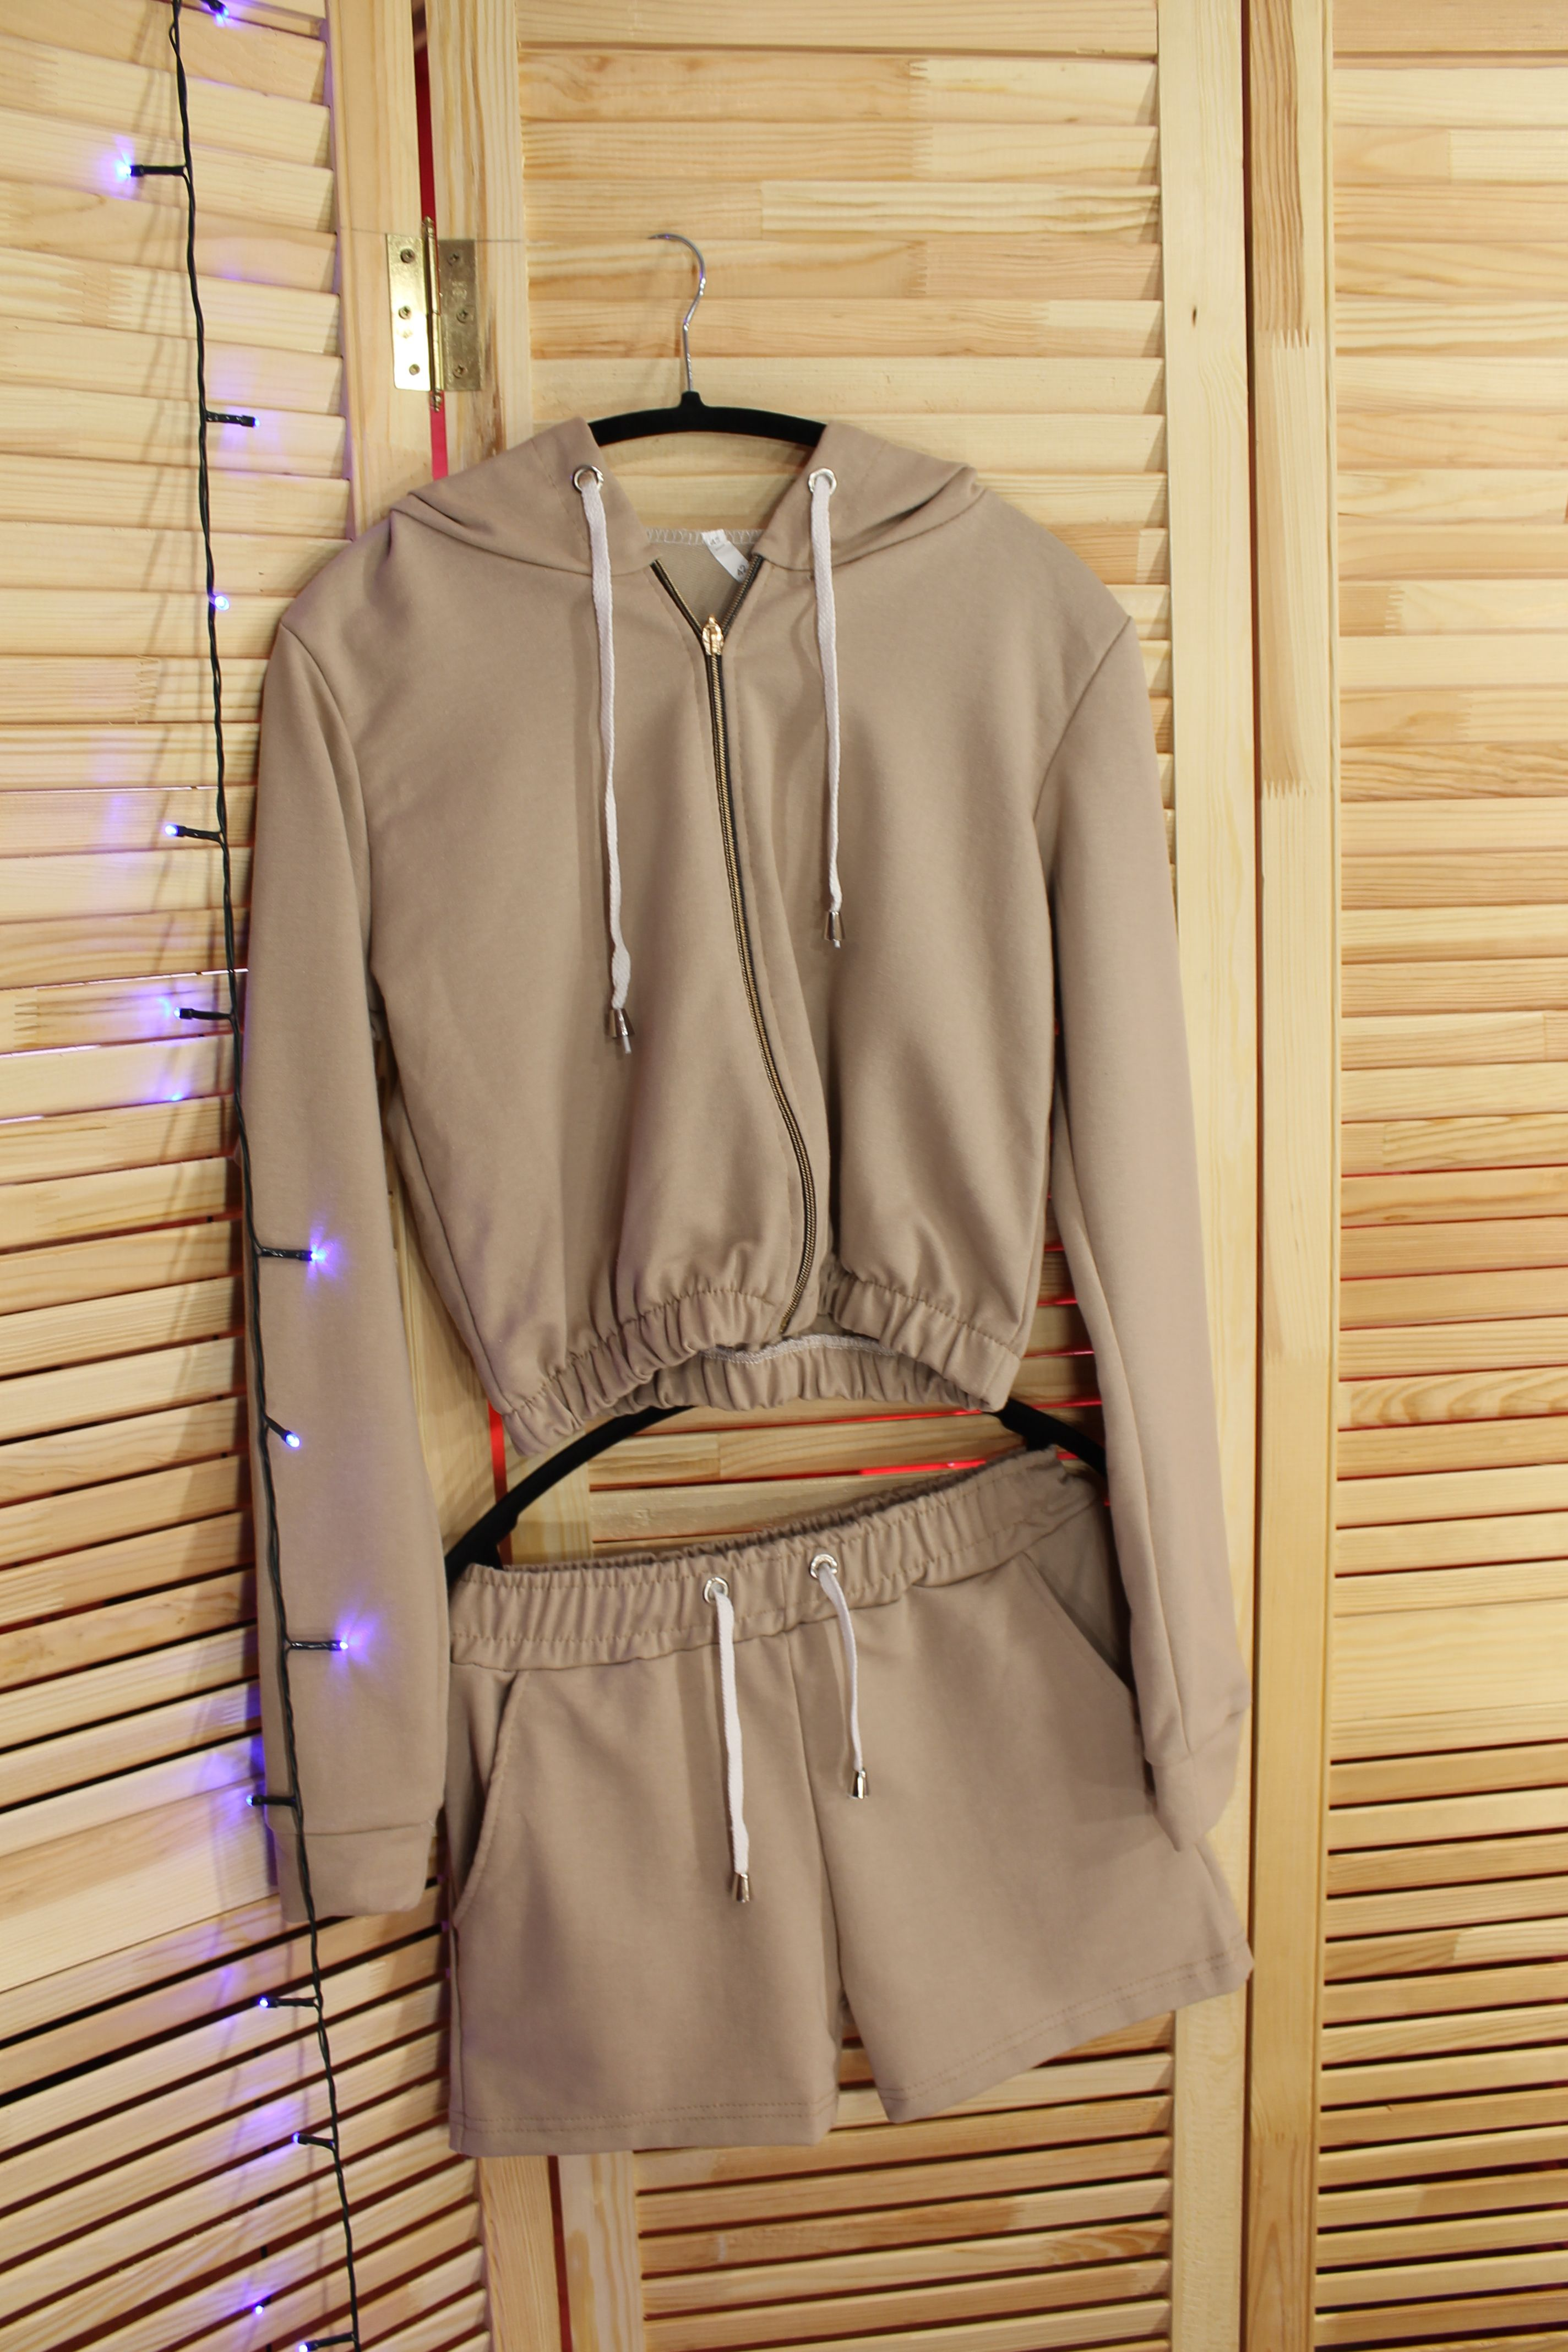clothes: (208, 387, 1272, 2098)
